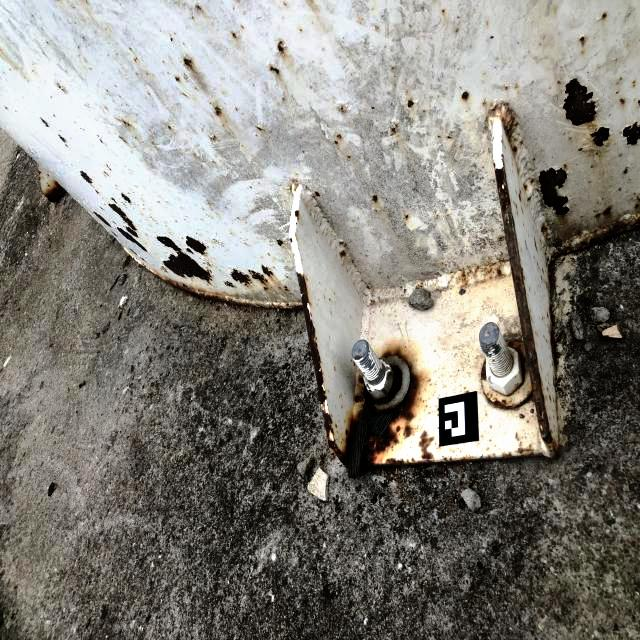Corrosion: (493, 153, 560, 460), (354, 365, 543, 473), (121, 243, 303, 310), (296, 271, 328, 407), (156, 235, 214, 285), (485, 101, 525, 172), (321, 405, 364, 469), (574, 213, 640, 252), (562, 77, 599, 127), (538, 163, 571, 217), (455, 260, 507, 287), (484, 385, 534, 409), (38, 163, 67, 203), (547, 245, 573, 288), (380, 343, 417, 371), (506, 339, 529, 382), (580, 125, 611, 155), (107, 203, 137, 231), (117, 226, 148, 252), (248, 267, 270, 292), (229, 267, 253, 289), (186, 236, 209, 256), (622, 121, 640, 146), (549, 303, 556, 363), (93, 211, 112, 228), (275, 39, 287, 57), (79, 170, 93, 185), (124, 225, 140, 238), (287, 177, 299, 194), (183, 55, 194, 73), (261, 263, 274, 278), (269, 62, 281, 76), (58, 134, 69, 148), (118, 119, 134, 128), (480, 358, 486, 381), (121, 193, 132, 205), (39, 116, 50, 128), (213, 103, 222, 117), (390, 121, 399, 134), (461, 90, 470, 102), (224, 280, 237, 288), (603, 206, 613, 216), (541, 223, 548, 236), (128, 247, 138, 256), (118, 135, 128, 144), (254, 125, 265, 133), (202, 258, 213, 266), (578, 36, 587, 45), (339, 249, 347, 259), (294, 208, 300, 221), (276, 238, 284, 247), (415, 282, 424, 290), (534, 235, 538, 253), (552, 374, 556, 392), (110, 229, 119, 237), (353, 353, 363, 360), (635, 196, 640, 210), (195, 4, 203, 12), (160, 265, 168, 273), (407, 99, 414, 108), (338, 105, 347, 112), (619, 97, 626, 106), (185, 247, 194, 254), (139, 256, 148, 263), (231, 31, 238, 39), (209, 134, 217, 141), (357, 375, 363, 384), (372, 194, 378, 203), (180, 91, 189, 97), (336, 133, 343, 140), (594, 212, 601, 219), (600, 12, 607, 19), (111, 197, 118, 204), (58, 85, 65, 92), (103, 170, 110, 177), (518, 189, 522, 201), (576, 230, 583, 236), (106, 164, 112, 171), (523, 184, 528, 192), (515, 203, 518, 216), (632, 79, 636, 88), (482, 99, 487, 106), (623, 167, 628, 174), (315, 191, 320, 197), (404, 213, 409, 219), (175, 76, 180, 82), (284, 285, 289, 291), (530, 177, 535, 183), (504, 83, 508, 90), (515, 81, 519, 88), (295, 233, 298, 242), (334, 140, 339, 145), (95, 189, 100, 194), (100, 206, 105, 211), (289, 237, 293, 243), (447, 135, 453, 139), (549, 395, 552, 403), (537, 261, 540, 269), (288, 223, 291, 231), (133, 56, 137, 62), (615, 90, 620, 94), (167, 125, 171, 130), (558, 79, 562, 84), (98, 137, 102, 142), (521, 207, 524, 213), (371, 106, 375, 110), (638, 99, 640, 107), (299, 26, 303, 30), (348, 155, 351, 160), (542, 267, 544, 274), (547, 386, 549, 392), (547, 312, 549, 318), (170, 38, 173, 42)
